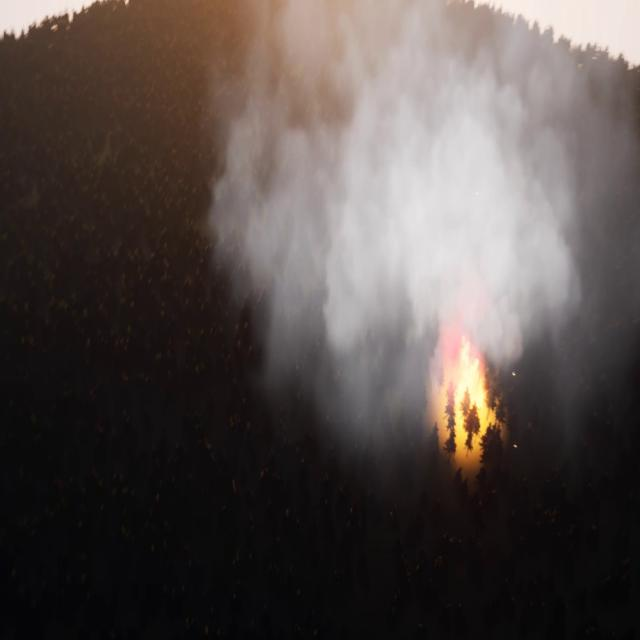fire: (441, 339, 494, 430)
smoke: (202, 0, 640, 457)
